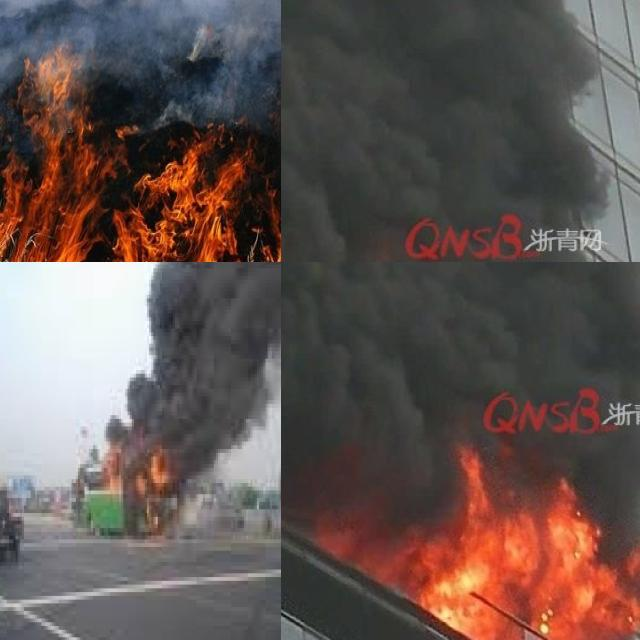fire: (0, 0, 281, 262), (320, 434, 640, 640), (76, 430, 188, 498)
smoke: (281, 262, 640, 556), (281, 0, 607, 262), (114, 262, 281, 460), (0, 0, 281, 70)
